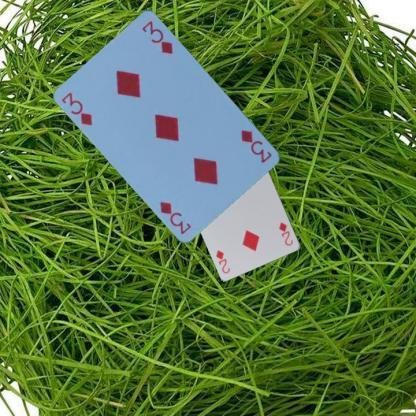2d: (276, 220, 294, 247)
3d: (238, 127, 274, 164), (59, 89, 94, 127)
